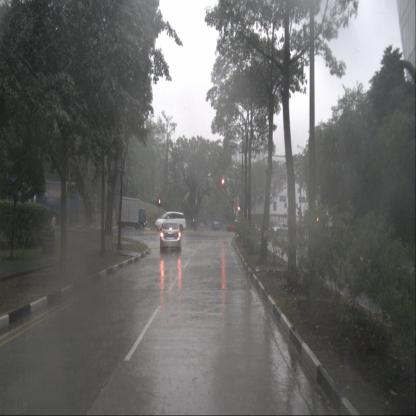vehicle-bus-rigid: (0, 180, 81, 227)
vehicle-car: (160, 221, 182, 254), (155, 211, 186, 232), (269, 221, 291, 236), (227, 220, 242, 232), (212, 221, 221, 231)
vehicle-truck: (114, 196, 148, 229)
